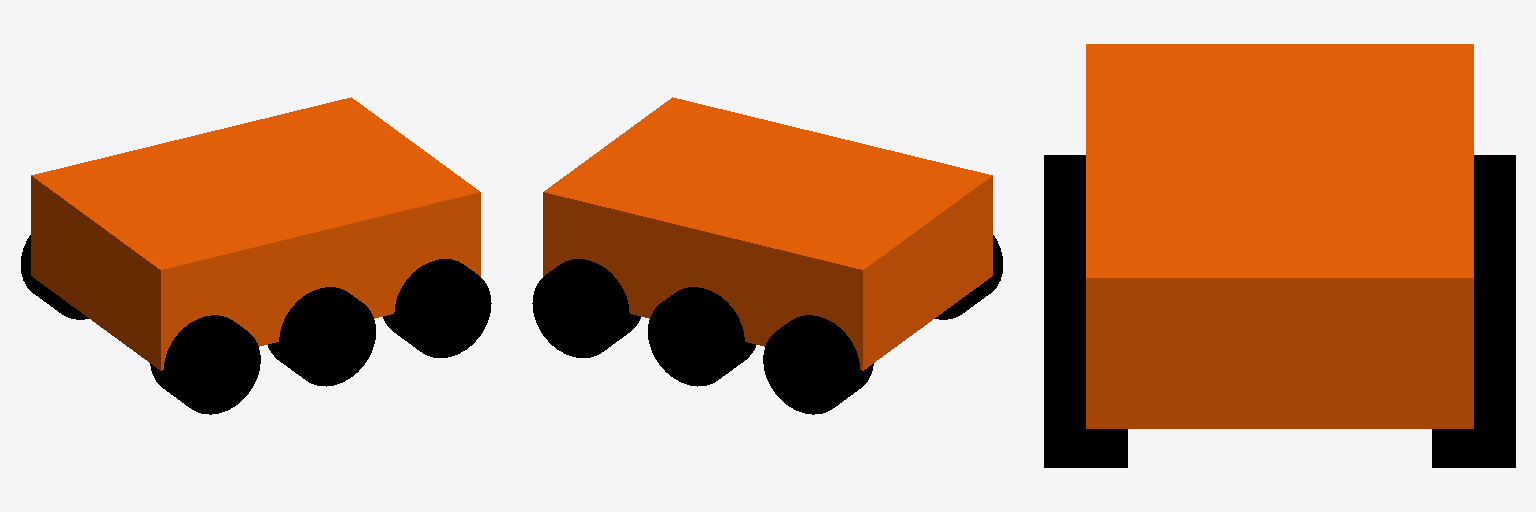
URDF robot description (rover):
<?xml version="1.0"?>
<robot name="rover">

  <!-- Materiales -->
  <material name="orange">
    <color rgba="1.0 0.4235294117647059 0.0392156862745098 1.0"/>
  </material>
  <material name="black">
    <color rgba="0.0 0.0 0.0 1.0"/>
  </material>

  <!-- Base del rover -->
  <link name="base_link">
    <inertial>
      <mass value="10.0"/>
      <origin xyz="0 0 0.15"/>
      <inertia ixx="0.4" ixy="0.0" ixz="0.0" iyy="0.2" iyz="0.0" izz="0.4"/>
    </inertial>
    <visual>
      <geometry>
        <box size="1.0 0.7 0.3"/>
      </geometry>
      <material name="orange"/>
    </visual>
    <collision>
      <geometry>
        <box size="1.0 0.7 0.3"/>
      </geometry>
    </collision>
  </link>

  <!-- Ruedas - sin usar xacro para simplificar -->
  
  <!-- Rueda izquierda delantera -->
  <link name="left_front">
    <inertial>
      <mass value="0.5"/>
      <origin xyz="0 0 0"/>
      <inertia ixx="0.005" ixy="0" ixz="0" iyy="0.005" iyz="0" izz="0.0025"/>
    </inertial>
    <visual>
      <origin xyz="0 0 0" rpy="1.570796 0 0"/>
      <geometry>
        <cylinder radius="0.13" length="0.15"/>
      </geometry>
      <material name="black"/>
    </visual>
    <collision>
      <origin xyz="0 0 0" rpy="1.570796 0 0"/>
      <geometry>
        <cylinder radius="0.13" length="0.15"/>
      </geometry>
    </collision>
  </link>
  
  <joint name="left_front_joint" type="continuous">
    <parent link="base_link"/>
    <child link="left_front"/>
    <origin xyz="0.36 0.35 -0.15" rpy="0 0 0"/>
    <axis xyz="0 1 0"/>
  </joint>
  
  <!-- Rueda izquierda central -->
  <link name="left_middle">
    <inertial>
      <mass value="0.5"/>
      <origin xyz="0 0 0"/>
      <inertia ixx="0.005" ixy="0" ixz="0" iyy="0.005" iyz="0" izz="0.0025"/>
    </inertial>
    <visual>
      <origin xyz="0 0 0" rpy="1.570796 0 0"/>
      <geometry>
        <cylinder radius="0.13" length="0.15"/>
      </geometry>
      <material name="black"/>
    </visual>
    <collision>
      <origin xyz="0 0 0" rpy="1.570796 0 0"/>
      <geometry>
        <cylinder radius="0.13" length="0.15"/>
      </geometry>
    </collision>
  </link>
  
  <joint name="left_middle_joint" type="continuous">
    <parent link="base_link"/>
    <child link="left_middle"/>
    <origin xyz="0.0 0.35 -0.15" rpy="0 0 0"/>
    <axis xyz="0 1 0"/>
  </joint>
  
  <!-- Rueda izquierda trasera -->
  <link name="left_rear">
    <inertial>
      <mass value="0.5"/>
      <origin xyz="0 0 0"/>
      <inertia ixx="0.005" ixy="0" ixz="0" iyy="0.005" iyz="0" izz="0.0025"/>
    </inertial>
    <visual>
      <origin xyz="0 0 0" rpy="1.570796 0 0"/>
      <geometry>
        <cylinder radius="0.13" length="0.15"/>
      </geometry>
      <material name="black"/>
    </visual>
    <collision>
      <origin xyz="0 0 0" rpy="1.570796 0 0"/>
      <geometry>
        <cylinder radius="0.13" length="0.15"/>
      </geometry>
    </collision>
  </link>
  
  <joint name="left_rear_joint" type="continuous">
    <parent link="base_link"/>
    <child link="left_rear"/>
    <origin xyz="-0.36 0.35 -0.15" rpy="0 0 0"/>
    <axis xyz="0 1 0"/>
  </joint>
  
  <!-- Rueda derecha delantera -->
  <link name="right_front">
    <inertial>
      <mass value="0.5"/>
      <origin xyz="0 0 0"/>
      <inertia ixx="0.005" ixy="0" ixz="0" iyy="0.005" iyz="0" izz="0.0025"/>
    </inertial>
    <visual>
      <origin xyz="0 0 0" rpy="1.570796 0 0"/>
      <geometry>
        <cylinder radius="0.13" length="0.15"/>
      </geometry>
      <material name="black"/>
    </visual>
    <collision>
      <origin xyz="0 0 0" rpy="1.570796 0 0"/>
      <geometry>
        <cylinder radius="0.13" length="0.15"/>
      </geometry>
    </collision>
  </link>
  
  <joint name="right_front_joint" type="continuous">
    <parent link="base_link"/>
    <child link="right_front"/>
    <origin xyz="0.36 -0.35 -0.15" rpy="0 0 0"/>
    <axis xyz="0 1 0"/>
  </joint>
  
  <!-- Rueda derecha central -->
  <link name="right_middle">
    <inertial>
      <mass value="0.5"/>
      <origin xyz="0 0 0"/>
      <inertia ixx="0.005" ixy="0" ixz="0" iyy="0.005" iyz="0" izz="0.0025"/>
    </inertial>
    <visual>
      <origin xyz="0 0 0" rpy="1.570796 0 0"/>
      <geometry>
        <cylinder radius="0.13" length="0.15"/>
      </geometry>
      <material name="black"/>
    </visual>
    <collision>
      <origin xyz="0 0 0" rpy="1.570796 0 0"/>
      <geometry>
        <cylinder radius="0.13" length="0.15"/>
      </geometry>
    </collision>
  </link>
  
  <joint name="right_middle_joint" type="continuous">
    <parent link="base_link"/>
    <child link="right_middle"/>
    <origin xyz="0.0 -0.35 -0.15" rpy="0 0 0"/>
    <axis xyz="0 1 0"/>
  </joint>
  
  <!-- Rueda derecha trasera -->
  <link name="right_rear">
    <inertial>
      <mass value="0.5"/>
      <origin xyz="0 0 0"/>
      <inertia ixx="0.005" ixy="0" ixz="0" iyy="0.005" iyz="0" izz="0.0025"/>
    </inertial>
    <visual>
      <origin xyz="0 0 0" rpy="1.570796 0 0"/>
      <geometry>
        <cylinder radius="0.13" length="0.15"/>
      </geometry>
      <material name="black"/>
    </visual>
    <collision>
      <origin xyz="0 0 0" rpy="1.570796 0 0"/>
      <geometry>
        <cylinder radius="0.13" length="0.15"/>
      </geometry>
    </collision>
  </link>
  
  <joint name="right_rear_joint" type="continuous">
    <parent link="base_link"/>
    <child link="right_rear"/>
    <origin xyz="-0.36 -0.35 -0.15" rpy="0 0 0"/>
    <axis xyz="0 1 0"/>
  </joint>

</robot>

--- Render facts (derived) ---
The picture shows the robot from 3 angles, left to right: view 1: azimuth 30°, elevation 25°; view 2: azimuth 150°, elevation 25°; view 3: azimuth 270°, elevation 25°; orthographic projection.
Robot: rover — 7 links, 6 joints (6 continuous); root link base_link; default pose: all joints at 0.
Links seen in each view (by area): view 1: base_link, right_rear, right_middle, right_front, left_rear; view 2: base_link, left_rear, left_middle, left_front, right_rear; view 3: base_link, left_front, right_front, left_rear, right_rear, left_middle, right_middle.
Boxes of the visible links, box(x1,y1,x2,y2) form: base_link: box(31, 97, 480, 370); right_rear: box(150, 315, 260, 414); right_middle: box(268, 287, 375, 386); right_front: box(383, 259, 491, 357); left_rear: box(21, 235, 88, 319); base_link: box(543, 97, 992, 370); left_rear: box(763, 315, 873, 414); left_middle: box(648, 287, 755, 386); left_front: box(532, 259, 640, 357); right_rear: box(935, 235, 1002, 319); base_link: box(1086, 44, 1473, 428); left_front: box(1432, 324, 1515, 467); right_front: box(1044, 324, 1127, 467); left_rear: box(1474, 155, 1515, 239); right_rear: box(1044, 155, 1085, 239); left_middle: box(1474, 240, 1515, 323); right_middle: box(1044, 240, 1085, 323).
Bounding box of the posed robot: 1 × 0.85 × 0.43 m (x, y, z).
Geometry: primitives only (box / cylinder / sphere), no mesh files.